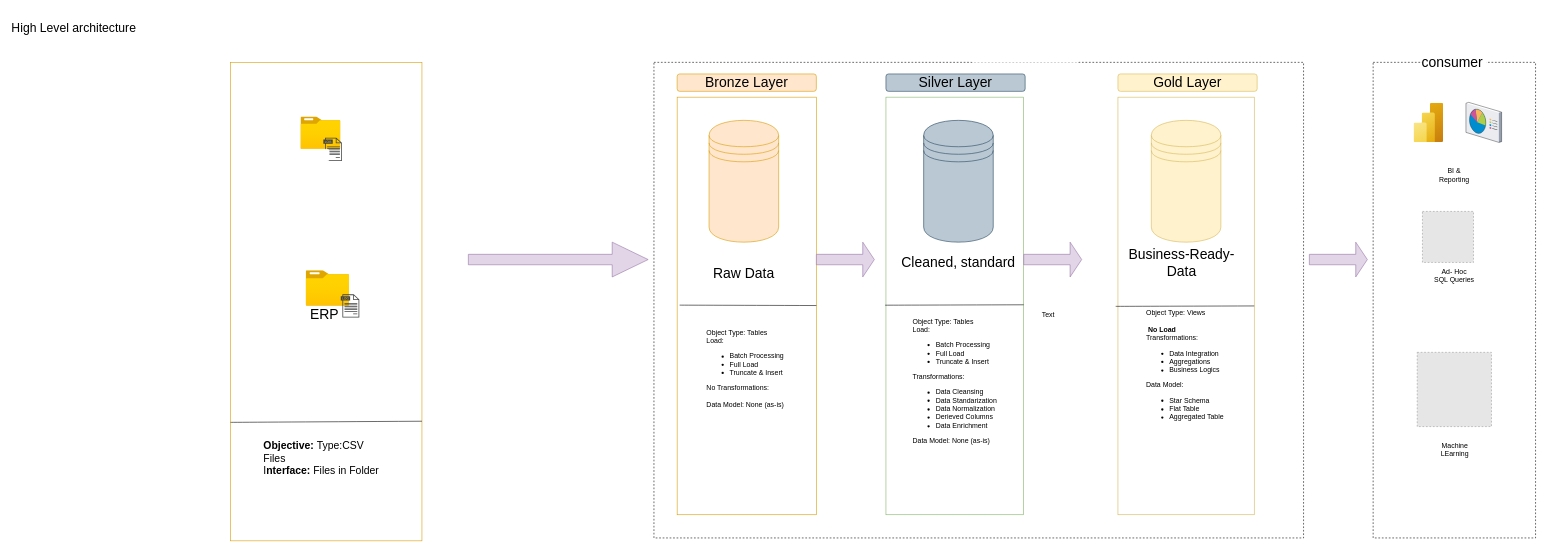
Image size: 1546x551. Some labels were removed from this diagram. Grey dashed boxes stand in for pictures. Here are the shapes that lost their labels. From the top down, the centre of each, then its label:
(x=339, y=59): sources
(x=1025, y=56): Data Warehouse
(x=311, y=155): CRM
